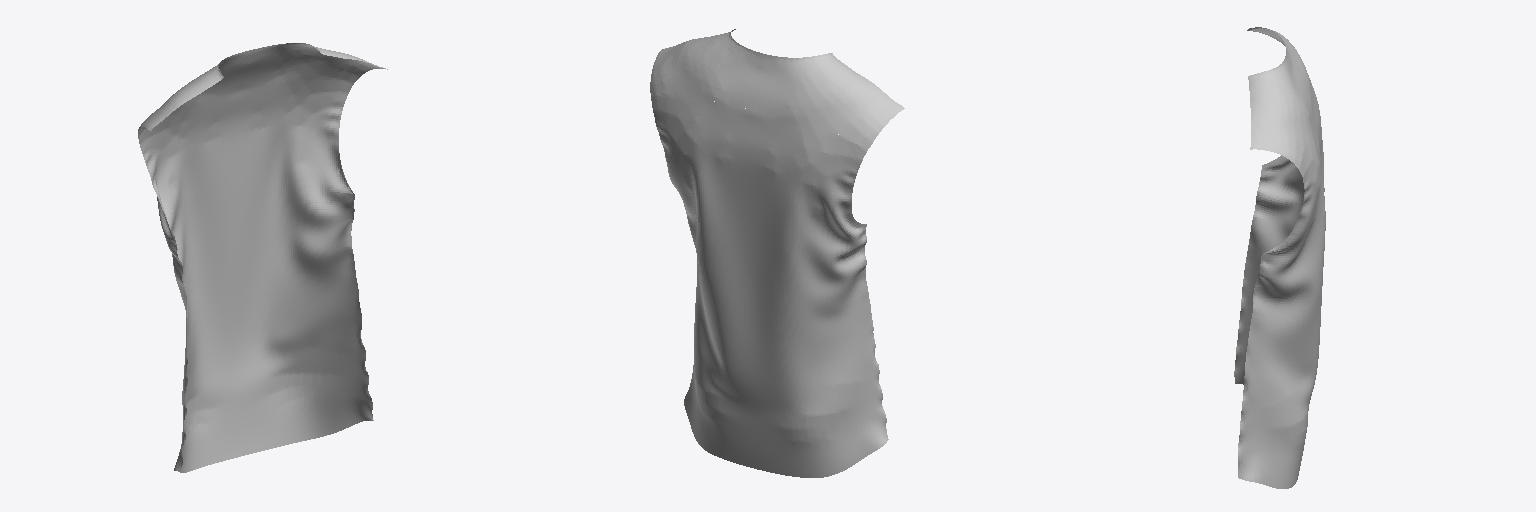
File: AFO_Shirt_Standard_Back_Plain.obj
The picture shows the model from 3 angles: view 1: azimuth 30°, elevation 25°; view 2: azimuth 150°, elevation 25°; view 3: azimuth 270°, elevation 25°; orthographic projection.
Bounding box in the file's own units: 430 × 700 × 140.